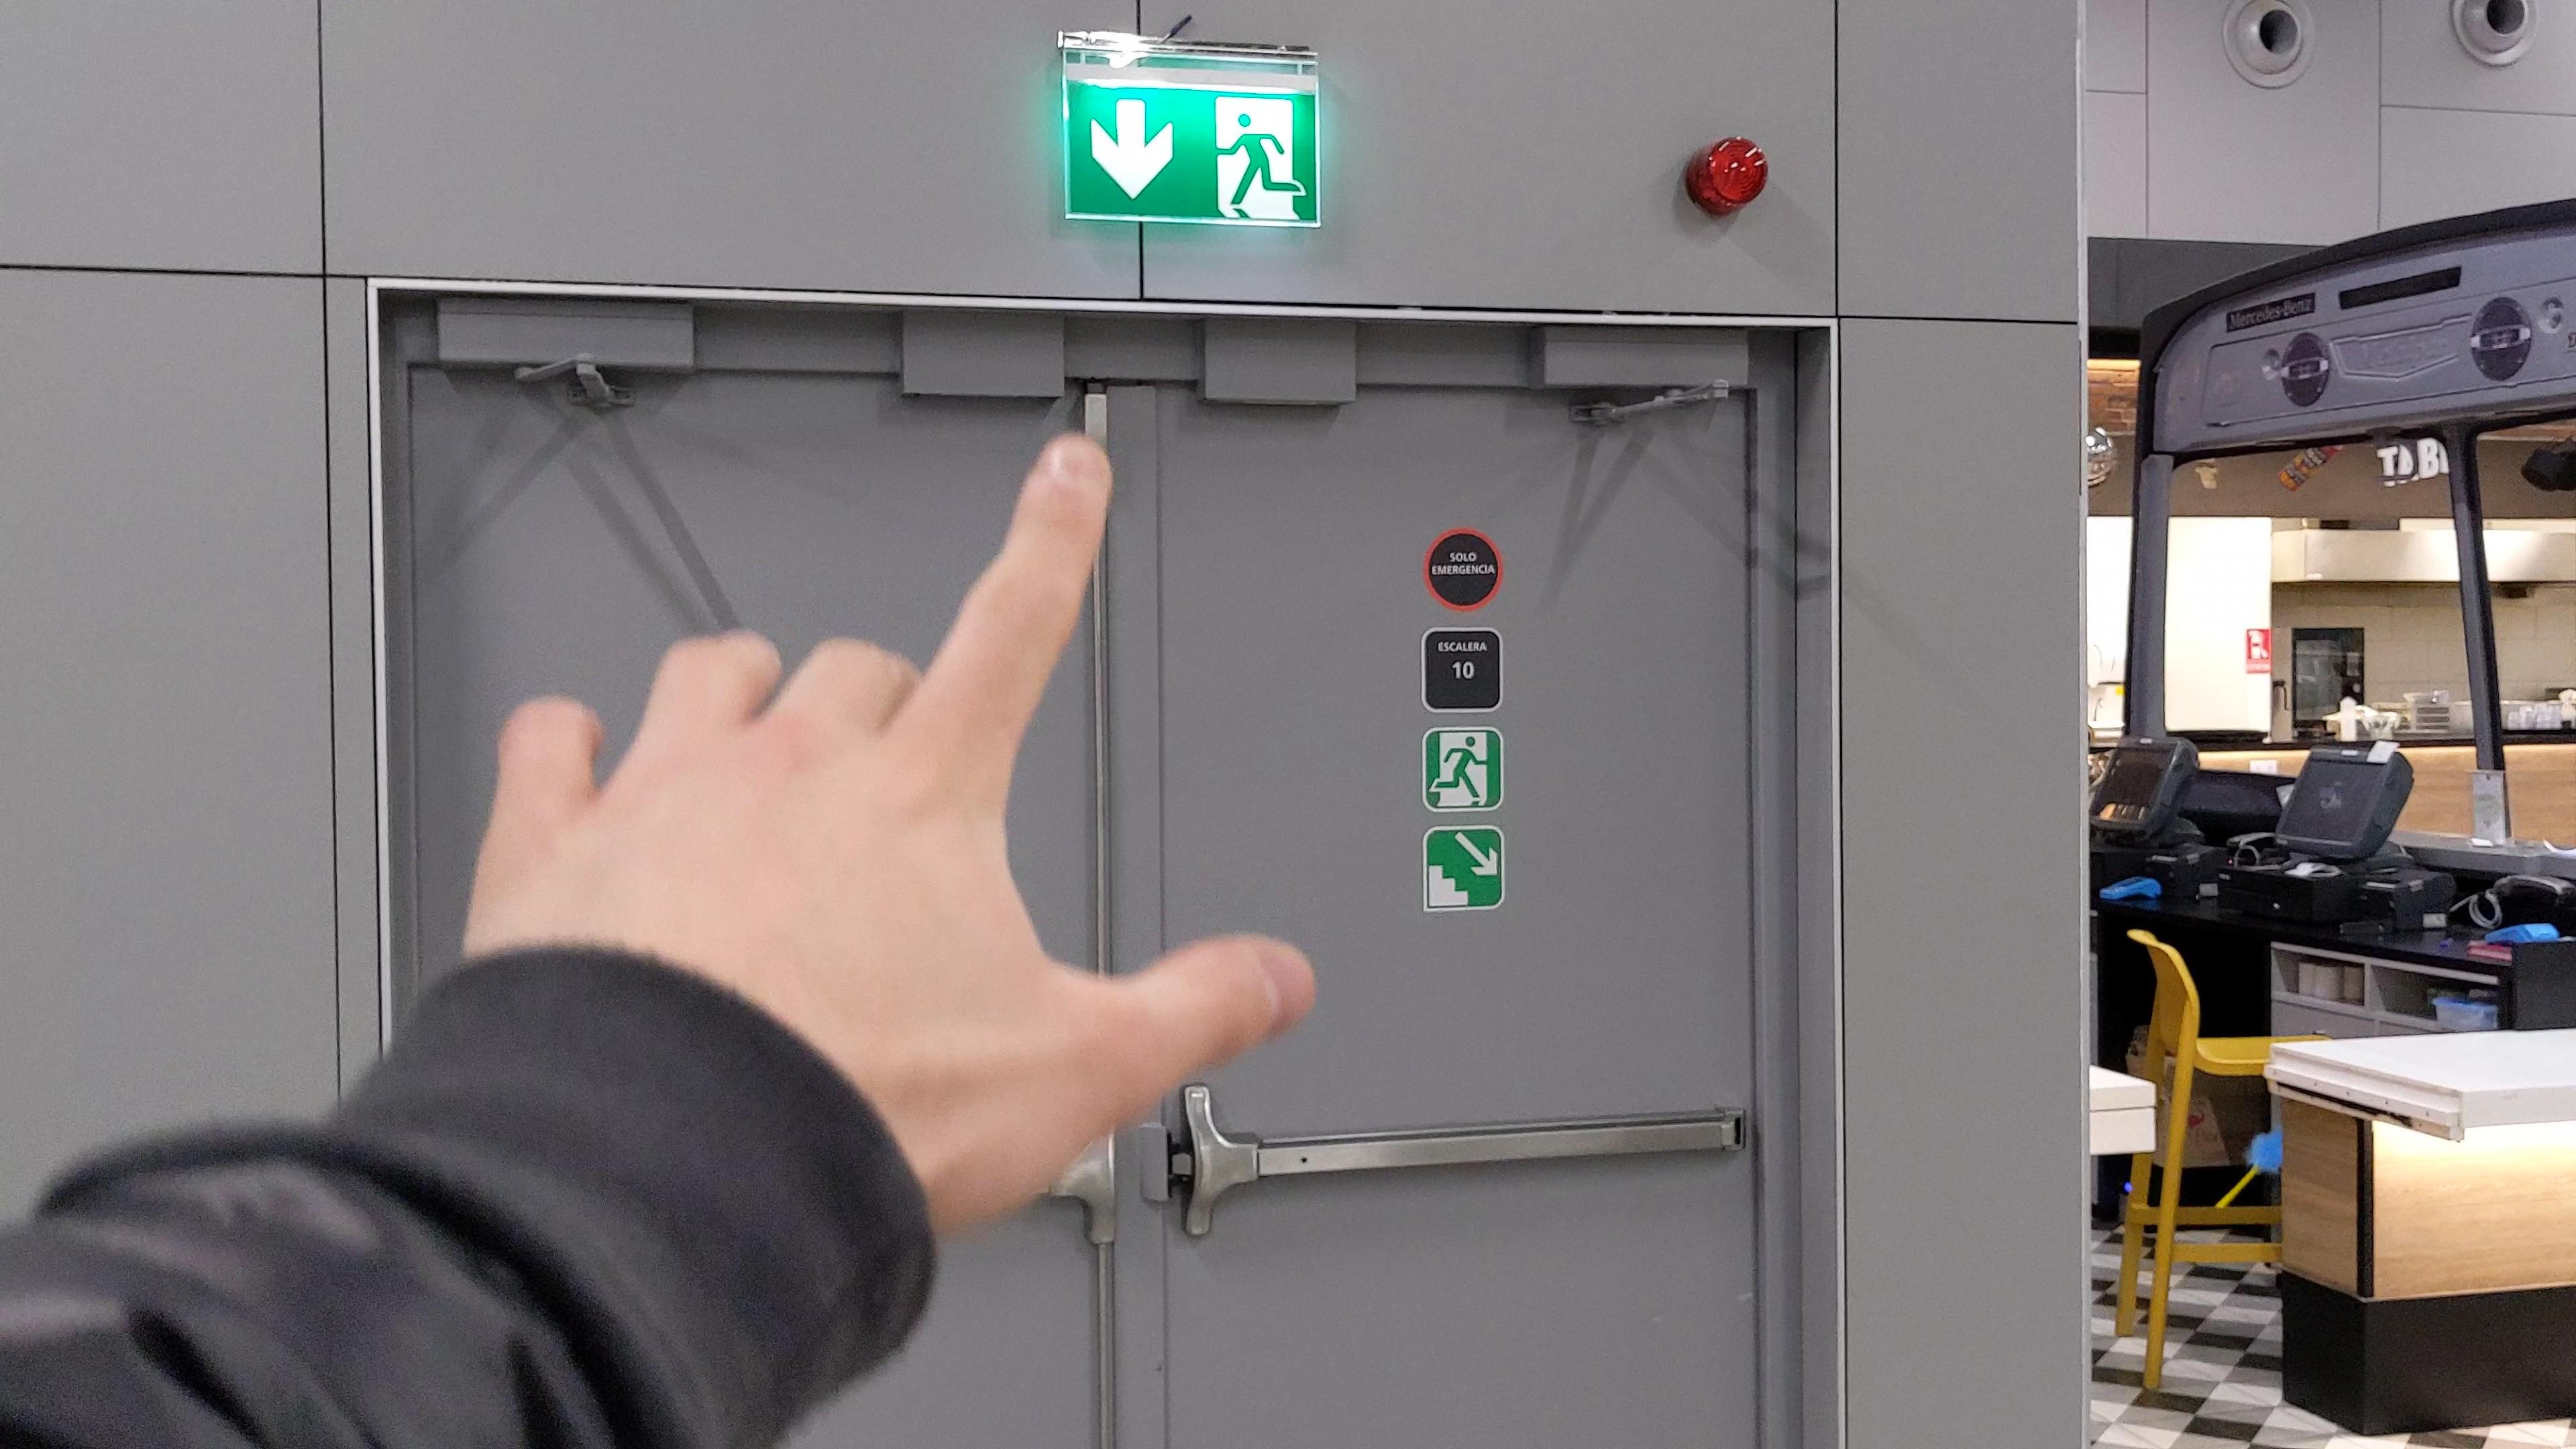emergency down arrow: (1086, 94, 1180, 205)
emergency exit: (1205, 90, 1307, 225), (1430, 727, 1495, 810)
